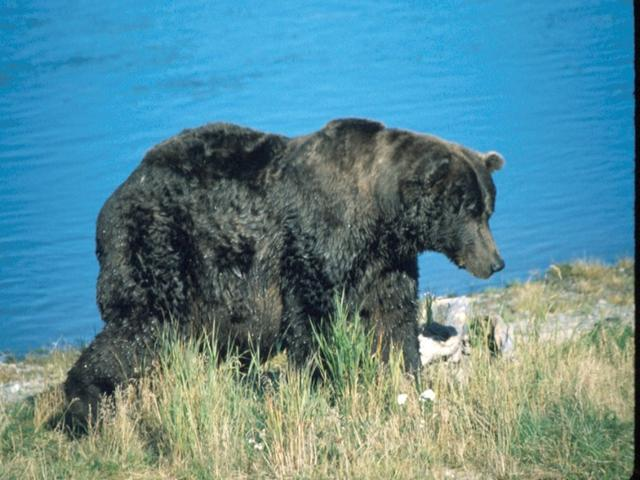Bear: (43, 107, 533, 424)
